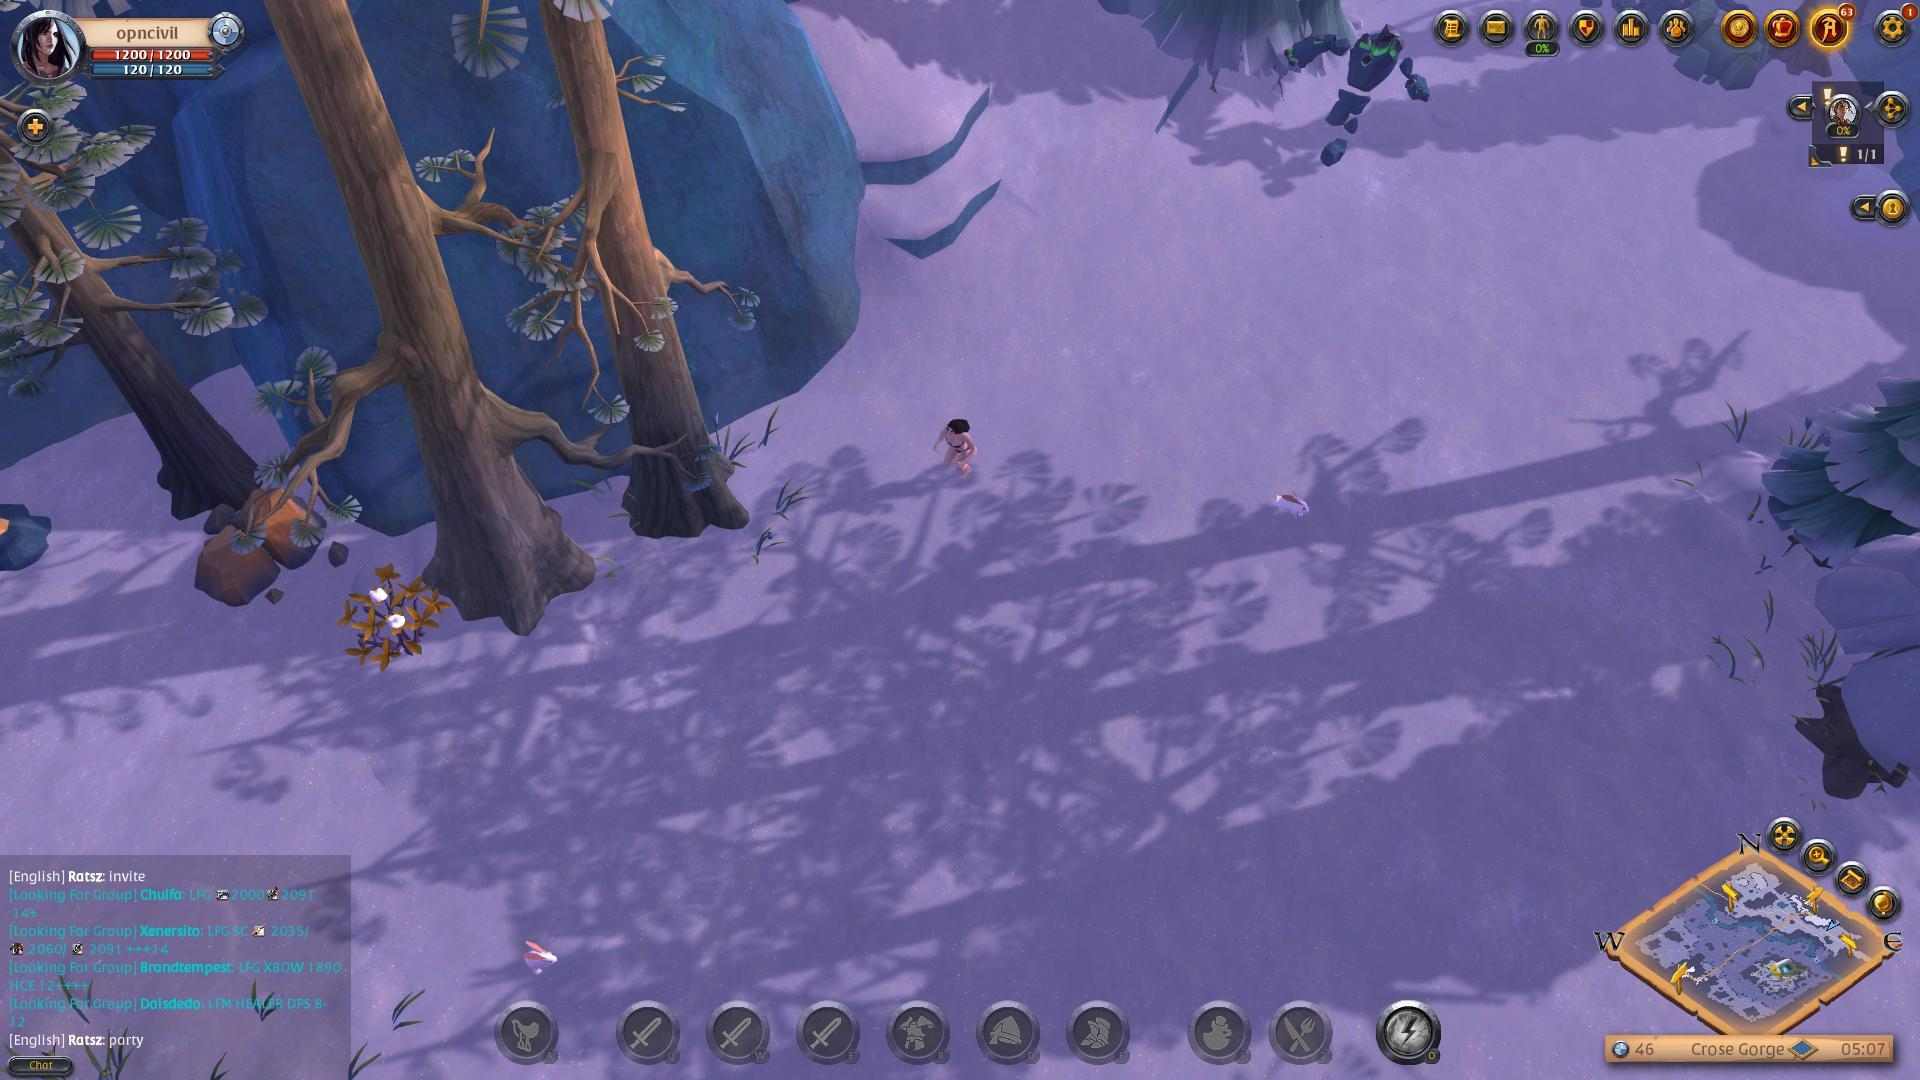cotton: (334, 572, 468, 665)
limestone: (200, 468, 339, 612)
